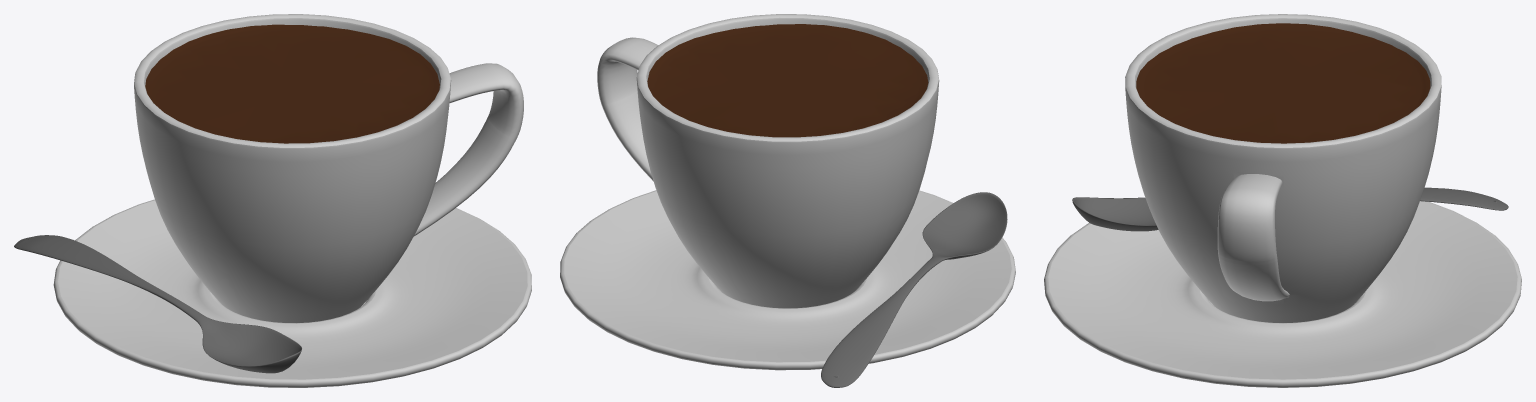
File: Coffee.dae
3 views of the same model, side by side, from view 1: azimuth 30°, elevation 25°; view 2: azimuth 150°, elevation 25°; view 3: azimuth 270°, elevation 25° (orthographic). The views are drawn at different scales.
Visible parts, largest first — view 1: cup, plate, cappuccino, spoon; view 2: cup, plate, cappuccino, spoon; view 3: cup, plate, cappuccino, spoon.
Boxes of the visible parts, box(x1,y1,x2,y2) form: cup: box(134, 14, 523, 322); plate: box(53, 199, 531, 387); cappuccino: box(145, 24, 439, 143); spoon: box(14, 235, 301, 373); cup: box(597, 14, 939, 308); plate: box(560, 190, 1015, 370); cappuccino: box(647, 24, 928, 137); spoon: box(821, 192, 1007, 387); cup: box(1125, 14, 1441, 322); plate: box(1044, 201, 1521, 387); cappuccino: box(1136, 23, 1430, 143); spoon: box(1072, 187, 1508, 231).
Bounding box in the file's own units: 13.31 × 7.47 × 13.28.
